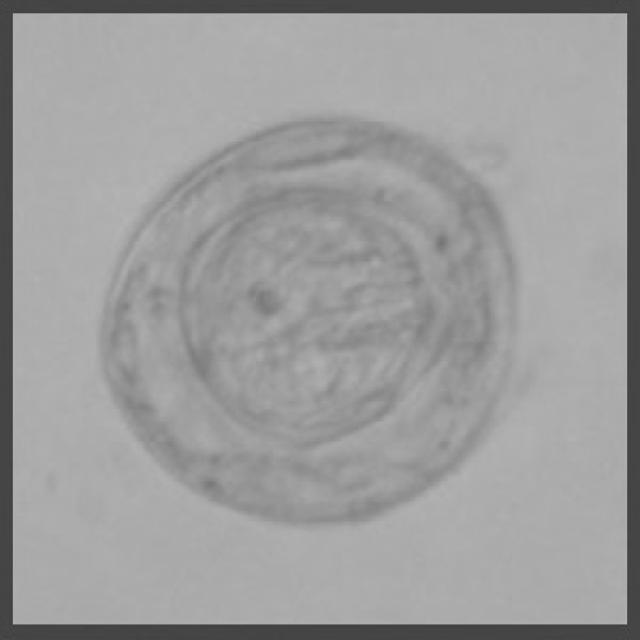Hymenolepis: (74, 90, 540, 548)
